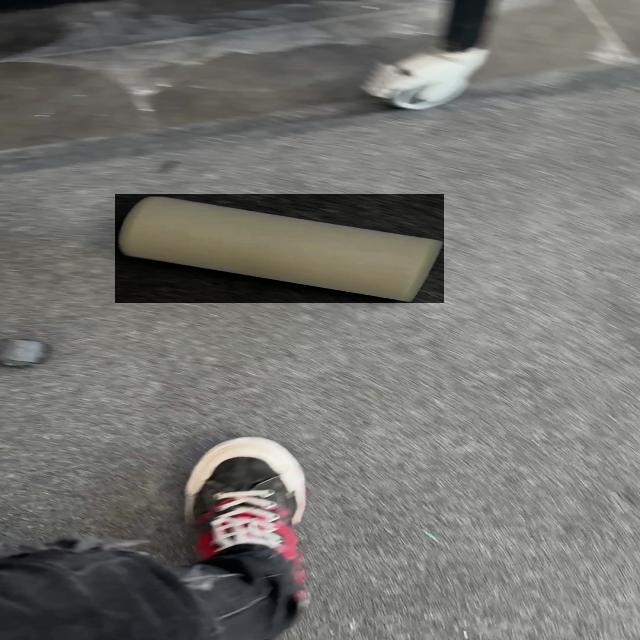Coral: (115, 194, 444, 303)
